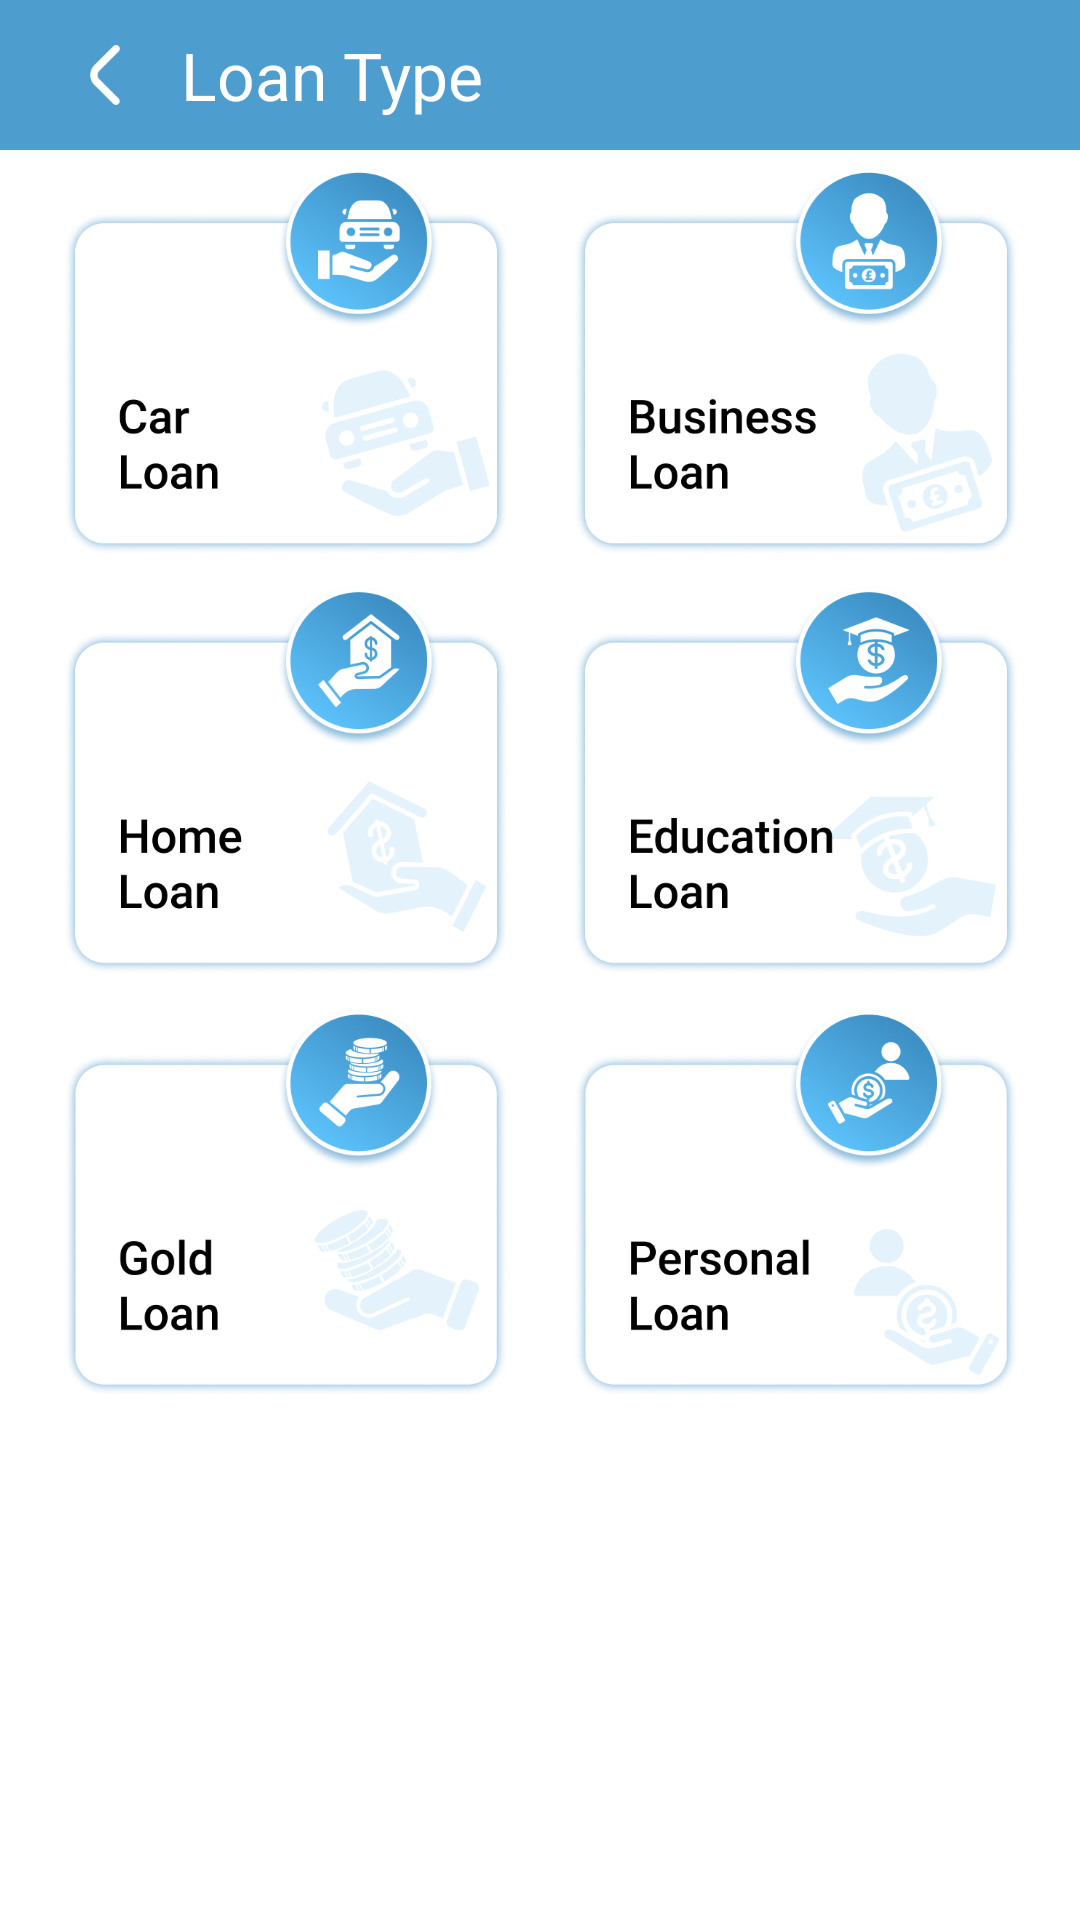

Locate icon controls on the screen. Image size 1080×1920, boxes as box(x1, y1, x2, y2).
back: box(90, 45, 120, 105)
